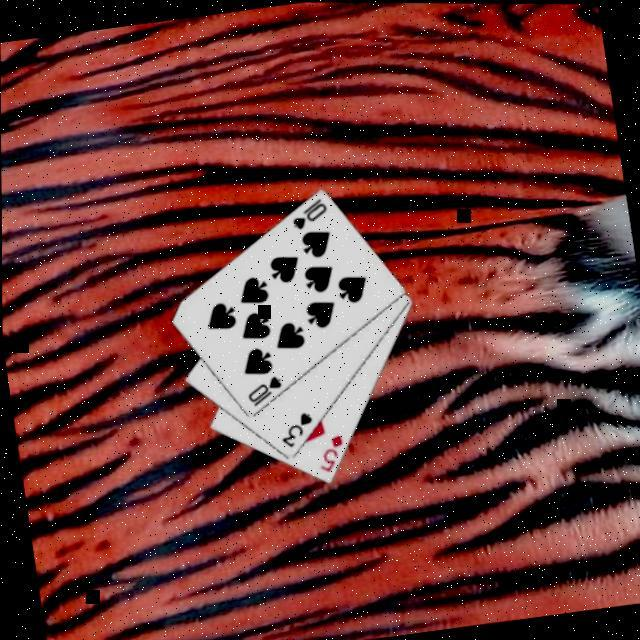10S: (240, 372, 286, 412), (285, 196, 331, 236)
3S: (274, 409, 317, 452)
5D: (311, 431, 349, 477)
